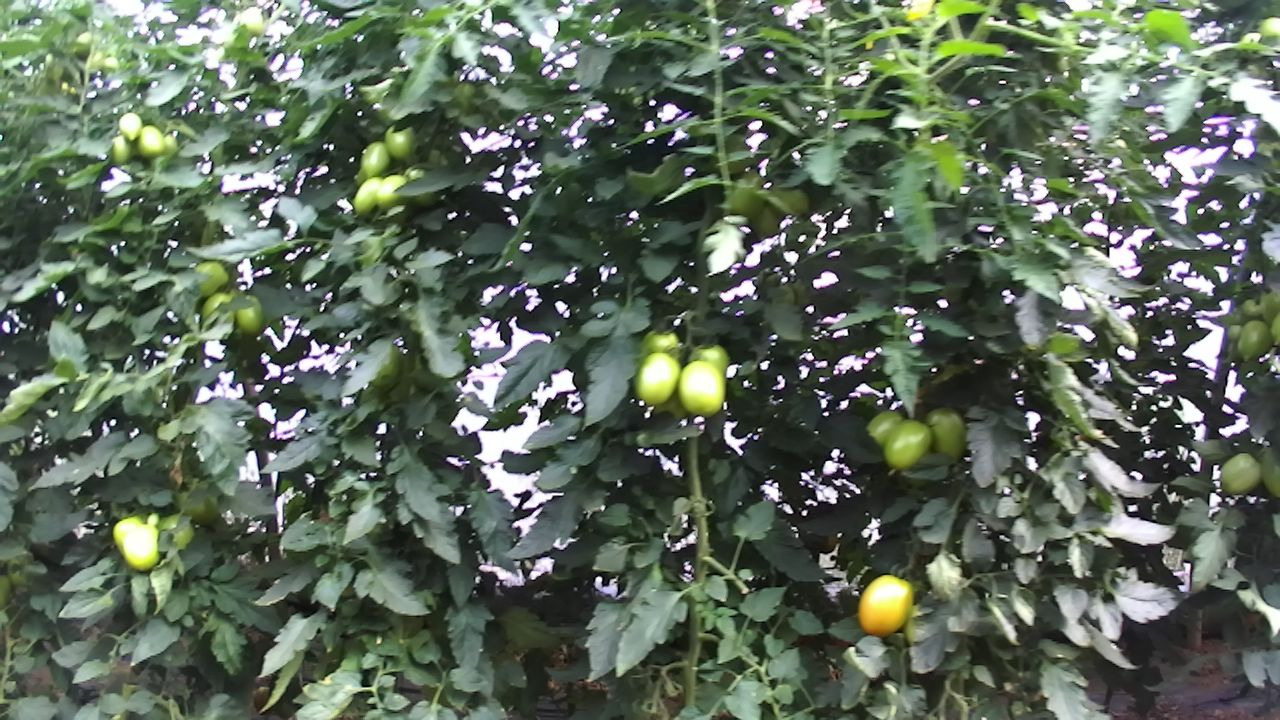tomato: (852, 571, 916, 639), (671, 358, 728, 420), (920, 402, 972, 466), (879, 415, 934, 472), (629, 349, 682, 407), (116, 520, 166, 577), (1216, 448, 1264, 498), (1233, 316, 1272, 366), (379, 120, 418, 161), (370, 173, 411, 212), (233, 290, 266, 338), (350, 173, 383, 218), (132, 123, 167, 160), (359, 138, 390, 179), (116, 110, 143, 144)
